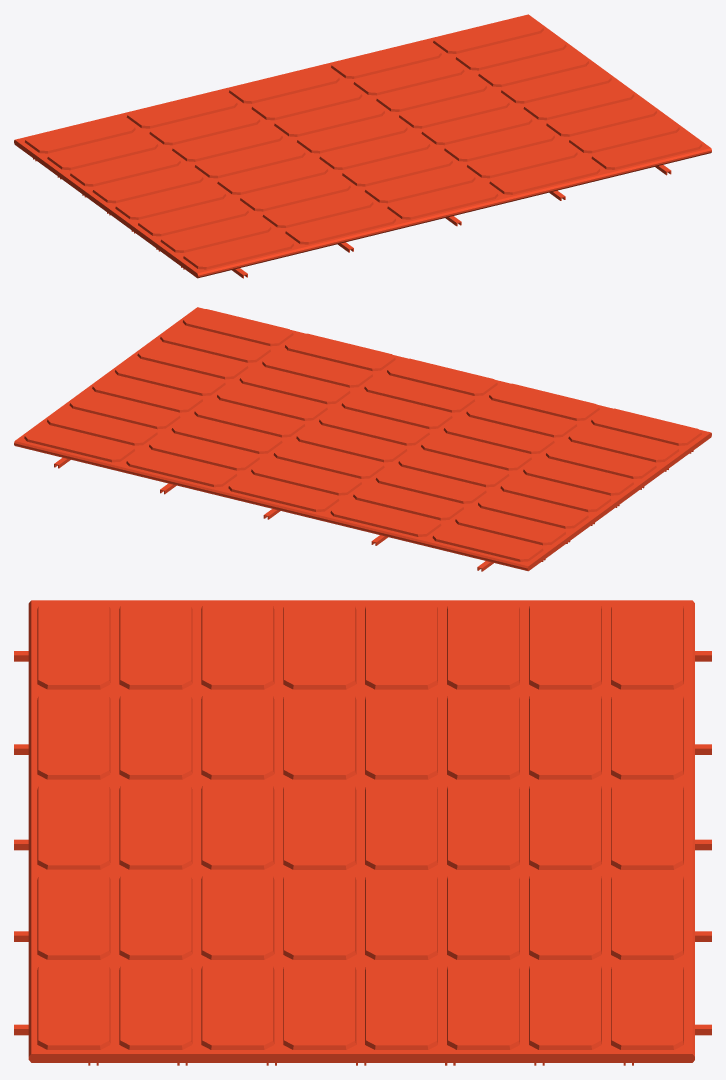
The model's file is SM_Solar_Panel_A_City.fbx.
3 renders of one model, top to bottom at view 1: azimuth 30°, elevation 25°; view 2: azimuth 150°, elevation 25°; view 3: azimuth 270°, elevation 25°, orthographic. The views are drawn at different scales.
Parts seen in each view (by area): view 1: SM_Solar_Panel_A_City; view 2: SM_Solar_Panel_A_City; view 3: SM_Solar_Panel_A_City.
Boxes of the visible parts, x1,y1,x2,y2 form: SM_Solar_Panel_A_City: (14,14,711,278); SM_Solar_Panel_A_City: (14,307,711,571); SM_Solar_Panel_A_City: (14,600,711,1065).
Size of the model in its own units: 3.24 by 0.0838 by 2.11.
